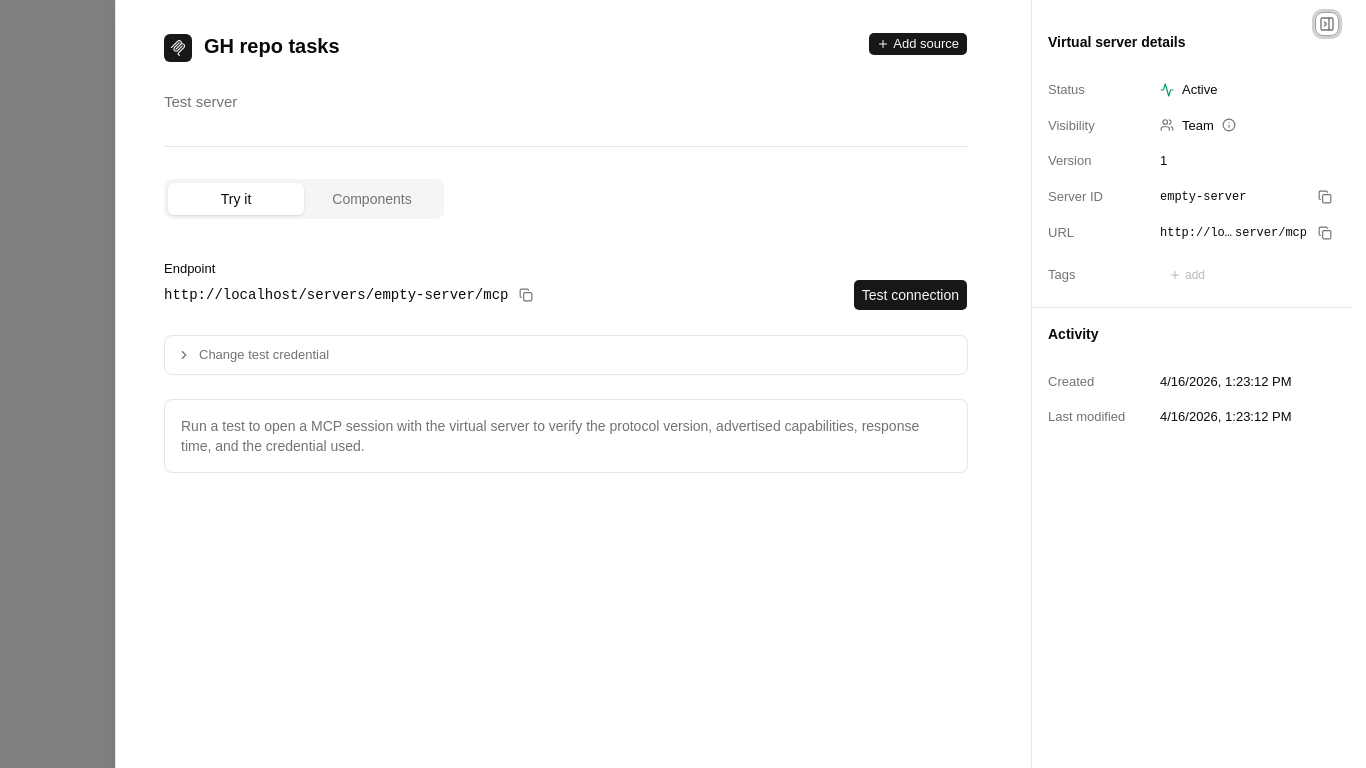
VirtualServerDetailsPanel render variants › shows an empty state when the server has no components
Click the tab "Components".
click(372, 199)  # box [304,183,440,215]
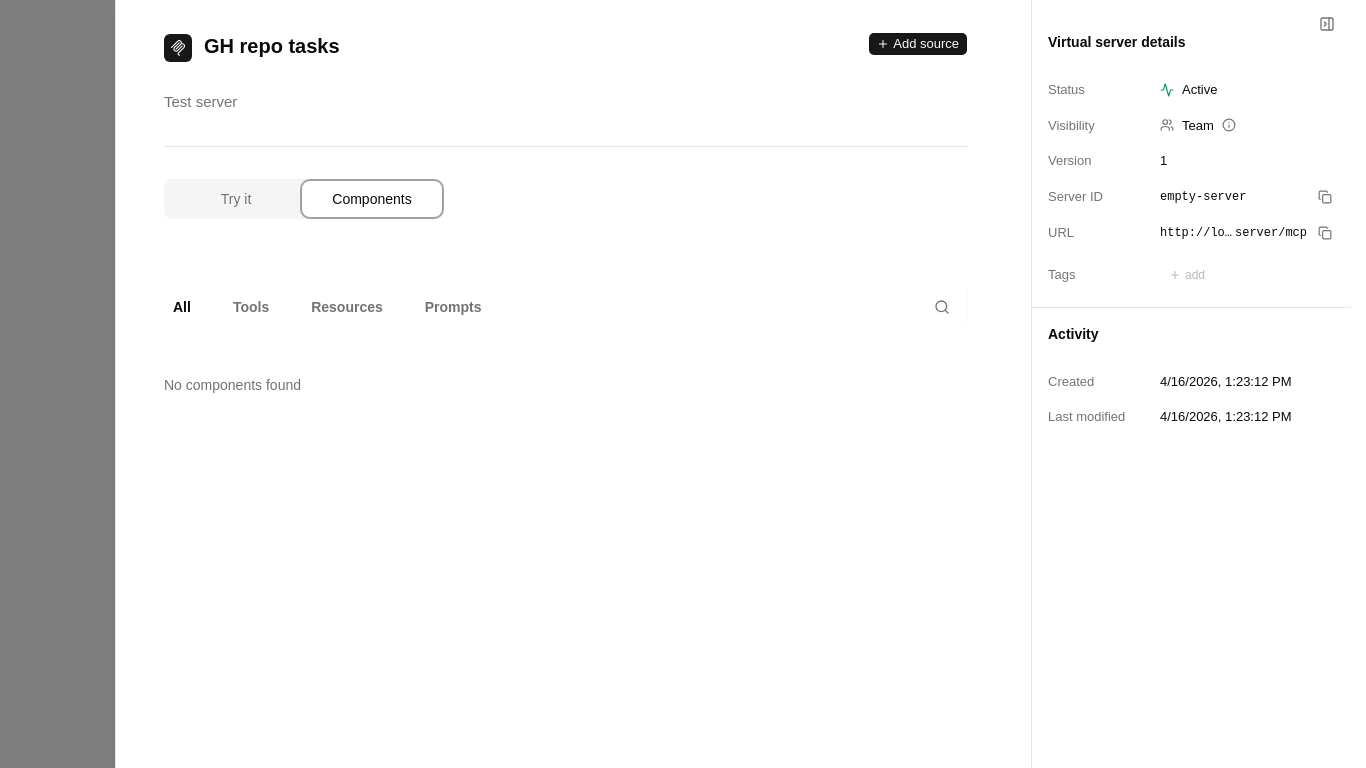
Now the text "No components found" is shown, box [164,377,301,393]
